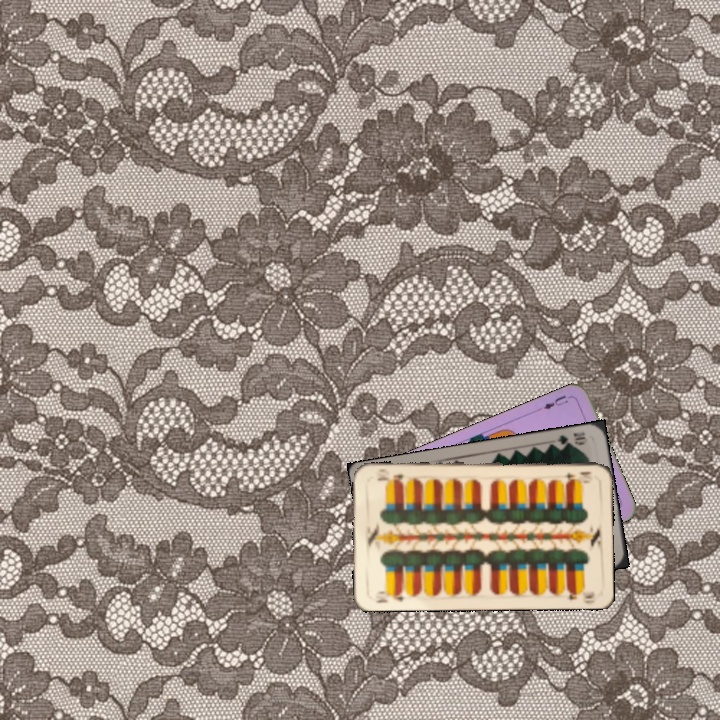E10: (372, 586, 407, 605), (556, 467, 595, 484)
EU: (535, 391, 571, 413)
G10: (553, 427, 590, 450)
